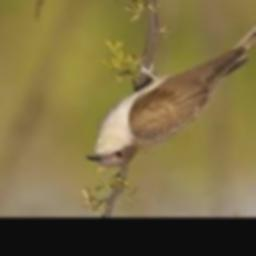Cuckoo: (86, 0, 256, 167)
